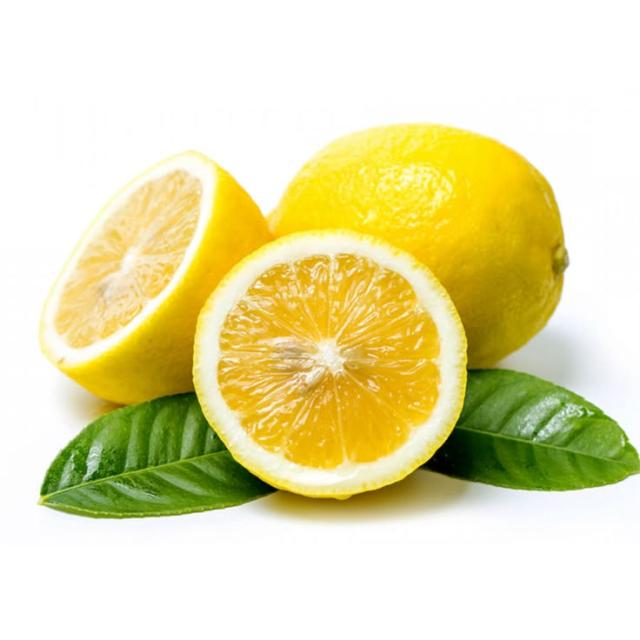lemon: (269, 124, 567, 367), (194, 231, 466, 497), (40, 152, 271, 403)
